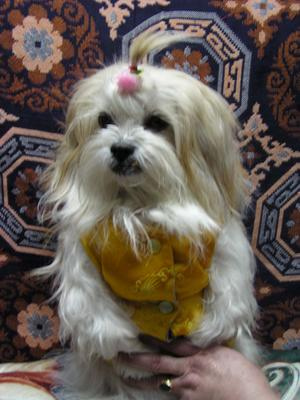dog: (59, 62, 258, 400)
